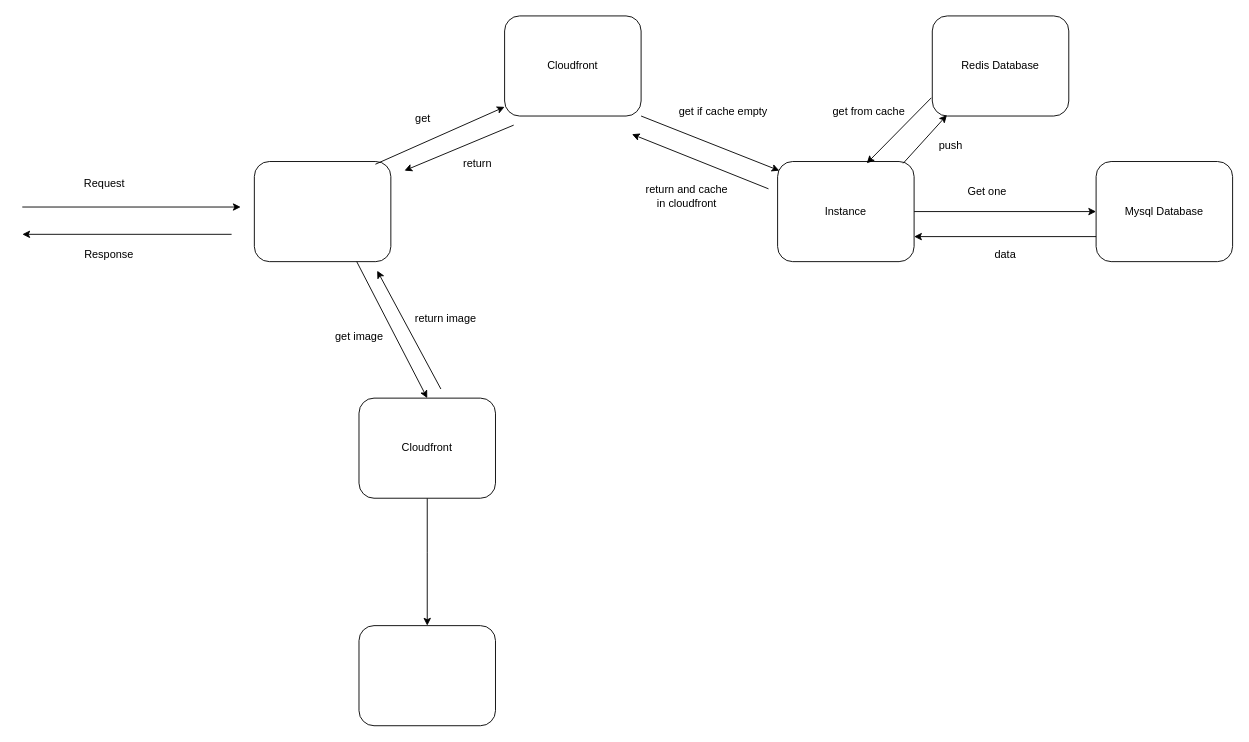
The diagram is 1249 pixels wide and 742 high, and some of its shapes have lost their labels. Each missing label, with the centre of its shape:
"Client" goes at point 322,211.
"S3" goes at point 426,675.
